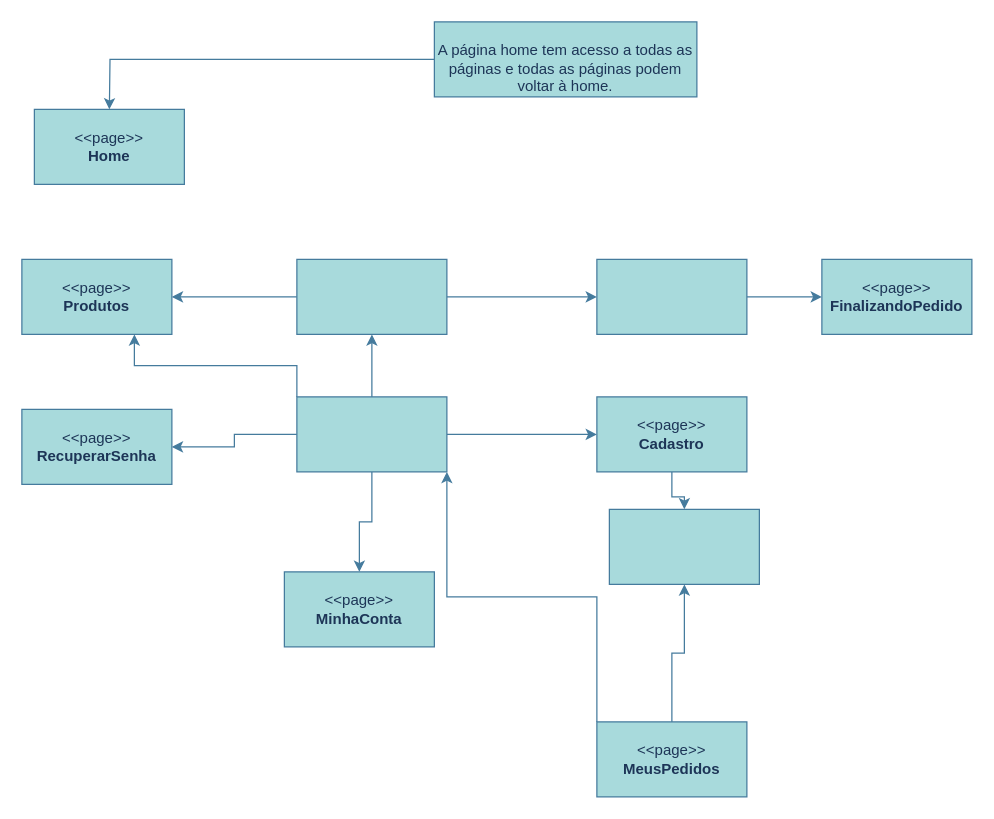
Some shapes in this 994 by 819 pixel diagram are drawn without their labels. Here are the shapes that lost their labels. From the top down, the box of each, then its label:
(296, 258, 447, 334): <<page>> CarrinhoCompras
(596, 258, 747, 334): <<page>> Pagamento
(296, 396, 447, 472): <<page>> Login
(608, 508, 759, 584): <<page>> Ajuda
